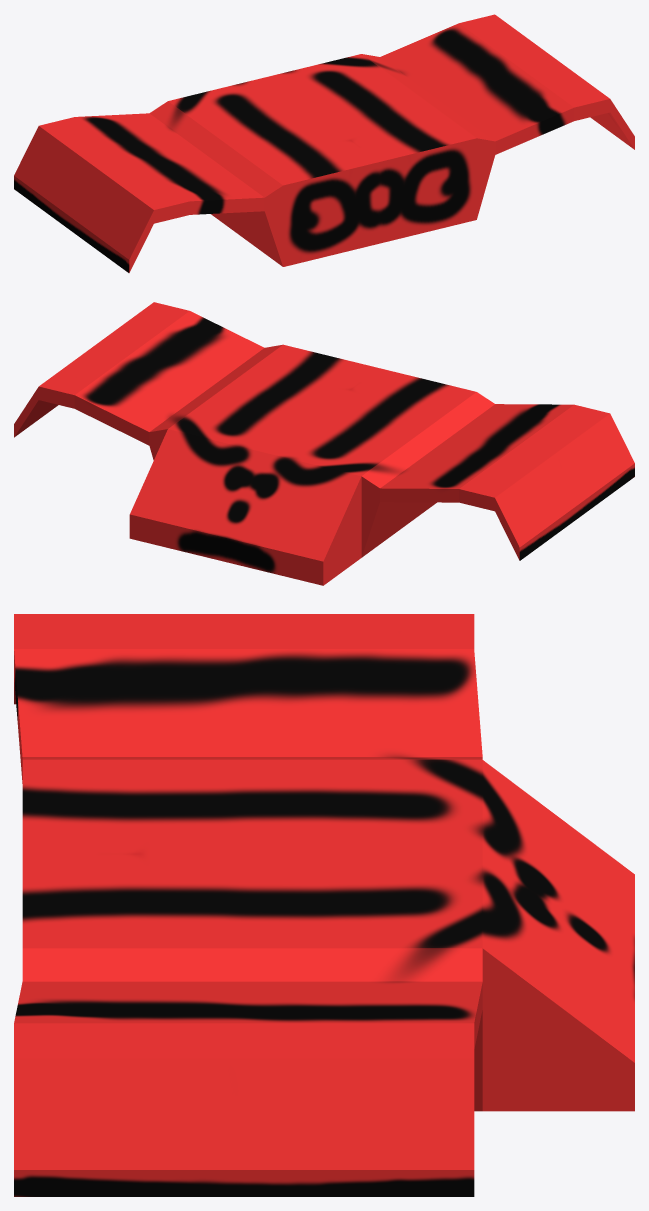
Rendered from enemy-ship.glb.
3 views of the same model, one above another, from view 1: azimuth 30°, elevation 25°; view 2: azimuth 150°, elevation 25°; view 3: azimuth 270°, elevation 25° (orthographic). The views are drawn at different scales.
Parts seen in each view (by area): view 1: Cube; view 2: Cube; view 3: Cube.
Part boxes in pixels (<box>): Cube: <box>14,14,634,272</box>; Cube: <box>14,302,634,585</box>; Cube: <box>14,614,634,1196</box>.
Size of the model in its own units: 5.07 by 0.8676 by 2.7.
Materials: 1 (1 with a texture image).
